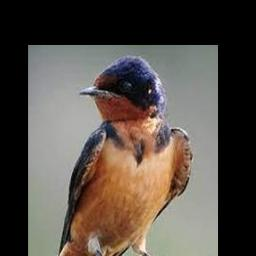Swallow: (56, 54, 194, 256)
